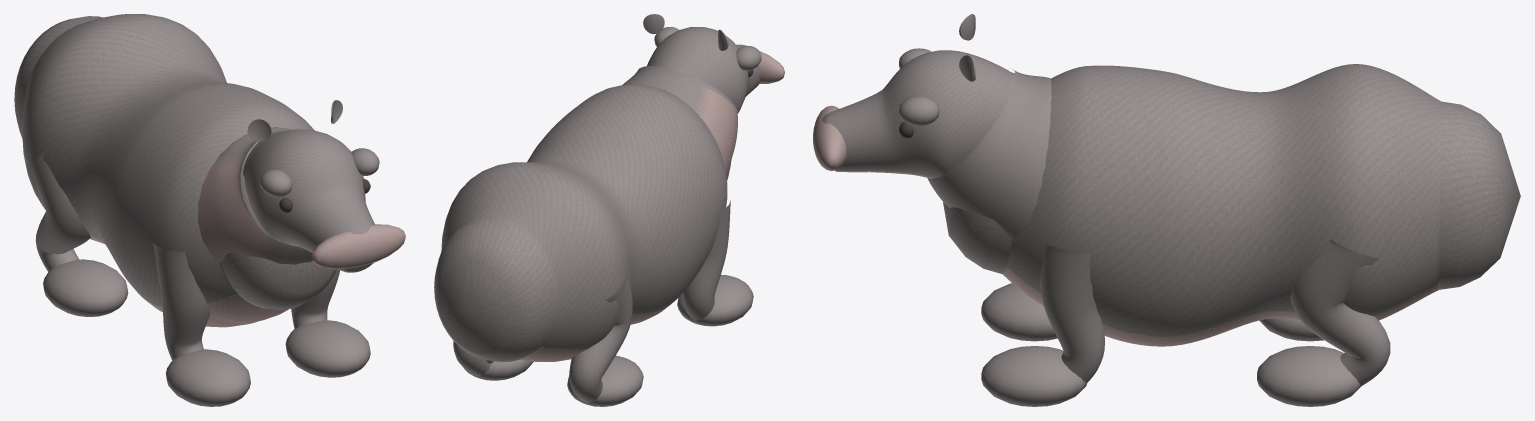
The model's file is other-hippopotamus.glb.
3 renders of one model, left to right at view 1: azimuth 30°, elevation 25°; view 2: azimuth 150°, elevation 25°; view 3: azimuth 270°, elevation 25°, orthographic. The views are drawn at different scales.
Parts seen in each view (by area): view 1: hippopotamus; view 2: hippopotamus; view 3: hippopotamus.
Boxes of the visible parts, x1,y1,x2,y2 form: hippopotamus: (14, 14, 405, 406); hippopotamus: (434, 14, 784, 406); hippopotamus: (813, 14, 1520, 406).
Size of the model in its own units: 1.22 by 1.76 by 3.39.
Materials: 3 (2 with a texture image).
